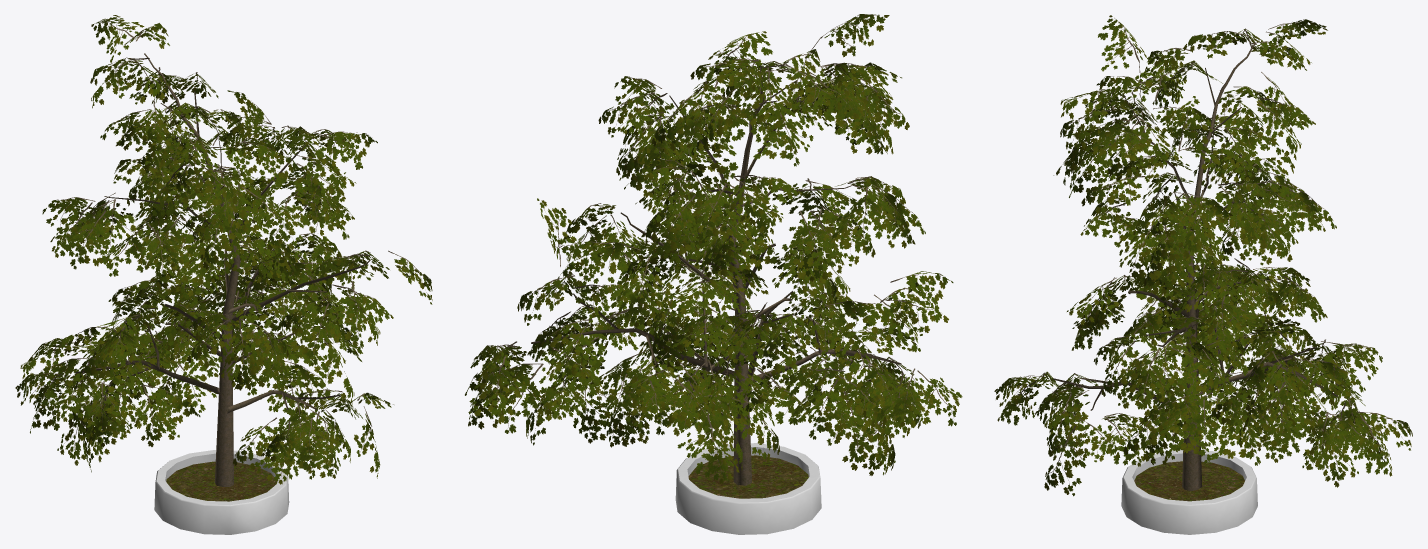
The model's file is nc_tree_06.fbx.
3 views of the same model, side by side, from view 1: azimuth 30°, elevation 25°; view 2: azimuth 150°, elevation 25°; view 3: azimuth 270°, elevation 25° (orthographic). The views are drawn at different scales.
Parts seen in each view (by area): view 1: nc_tree_06_LOD0; view 2: nc_tree_06_LOD0; view 3: nc_tree_06_LOD0.
Boxes of the visible parts, box(x1,y1,x2,y2) form: nc_tree_06_LOD0: box(15, 15, 432, 534); nc_tree_06_LOD0: box(465, 14, 962, 534); nc_tree_06_LOD0: box(994, 15, 1412, 534).
Size of what is drawn, in the model's own units: 3.27 by 3.7 by 3.08.
